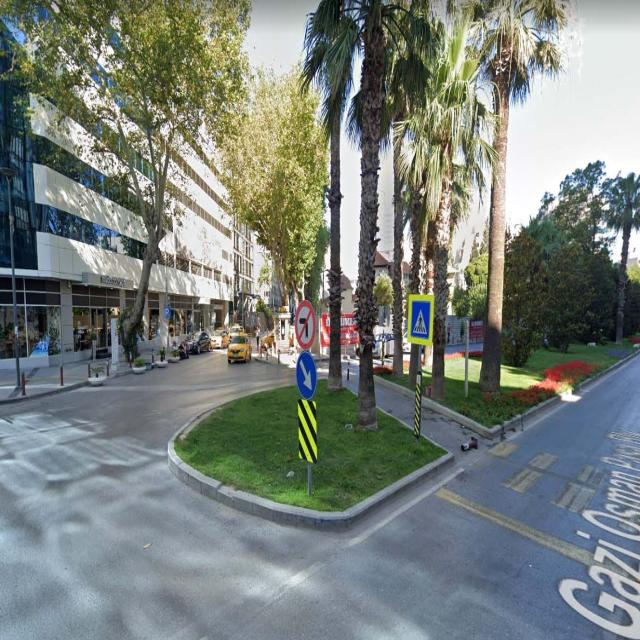park: (165, 308, 170, 317)
soladonulmez: (295, 303, 314, 346)
